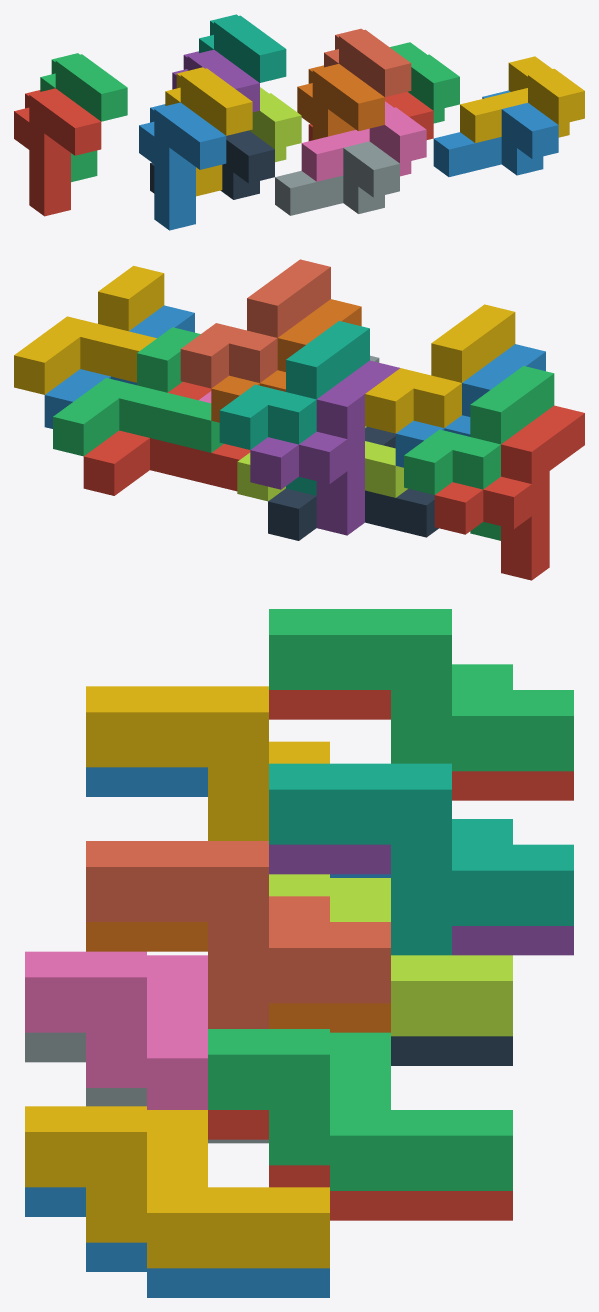
The model's file is tiling.obj.
3 renders of one model, top to bottom at view 1: azimuth 30°, elevation 25°; view 2: azimuth 150°, elevation 25°; view 3: azimuth 270°, elevation 25°, orthographic. The views are drawn at different scales.
Visible parts, largest first — view 1: copy_1_domain_2, copy_1_domain_1, copy_2_domain_6, copy_2_domain_2, copy_2_domain_8, copy_1_domain_6, copy_2_domain_4, copy_1_domain_4, copy_1_domain_3, copy_1_domain_8, copy_1_domain_7, copy_2_domain_1 (+4 smaller); view 2: copy_1_domain_1, copy_2_domain_7, copy_1_domain_5, copy_2_domain_8, copy_1_domain_7, copy_1_domain_3, copy_1_domain_4, copy_1_domain_8, copy_2_domain_5, copy_2_domain_1, copy_1_domain_2, copy_1_domain_6 (+2 smaller); view 3: copy_1_domain_7, copy_2_domain_8, copy_1_domain_8, copy_2_domain_7, copy_1_domain_3, copy_2_domain_4, copy_1_domain_4, copy_2_domain_3, copy_2_domain_6, copy_2_domain_5, copy_1_domain_5, copy_1_domain_1 (+4 smaller).
Part boxes in pixels (x1,y1,x2,y2): copy_1_domain_2: (139, 102, 226, 230); copy_1_domain_1: (14, 88, 101, 216); copy_2_domain_6: (433, 90, 558, 176); copy_2_domain_2: (275, 141, 399, 215); copy_2_domain_8: (460, 56, 584, 142); copy_1_domain_6: (297, 64, 384, 140); copy_2_domain_4: (301, 101, 426, 181); copy_1_domain_4: (165, 67, 252, 196); copy_1_domain_3: (40, 53, 127, 182); copy_1_domain_8: (324, 28, 411, 129); copy_1_domain_7: (199, 14, 286, 82); copy_2_domain_1: (150, 130, 274, 199); copy_1_domain_1: (434, 405, 584, 580); copy_2_domain_7: (53, 327, 223, 456); copy_1_domain_5: (250, 360, 399, 535); copy_2_domain_8: (14, 265, 164, 394); copy_1_domain_7: (219, 321, 369, 495); copy_1_domain_3: (404, 366, 554, 540); copy_1_domain_4: (365, 304, 515, 433); copy_1_domain_8: (180, 259, 330, 388); copy_2_domain_5: (83, 382, 250, 495); copy_2_domain_1: (268, 426, 438, 540); copy_1_domain_2: (395, 344, 545, 467); copy_1_domain_6: (211, 299, 361, 422); copy_1_domain_7: (269, 763, 573, 955); copy_2_domain_8: (25, 1106, 329, 1268); copy_1_domain_8: (86, 841, 390, 1028); copy_2_domain_7: (208, 1029, 512, 1190); copy_1_domain_3: (269, 609, 573, 771); copy_2_domain_4: (25, 951, 207, 1109); copy_1_domain_4: (86, 686, 329, 840); copy_2_domain_3: (269, 874, 512, 1036); copy_2_domain_6: (25, 1187, 329, 1297); copy_2_domain_5: (208, 1110, 512, 1220); copy_1_domain_5: (269, 844, 573, 955); copy_1_domain_1: (269, 690, 573, 800).
Bounding box in the file's own units: 18 × 5 × 9.
